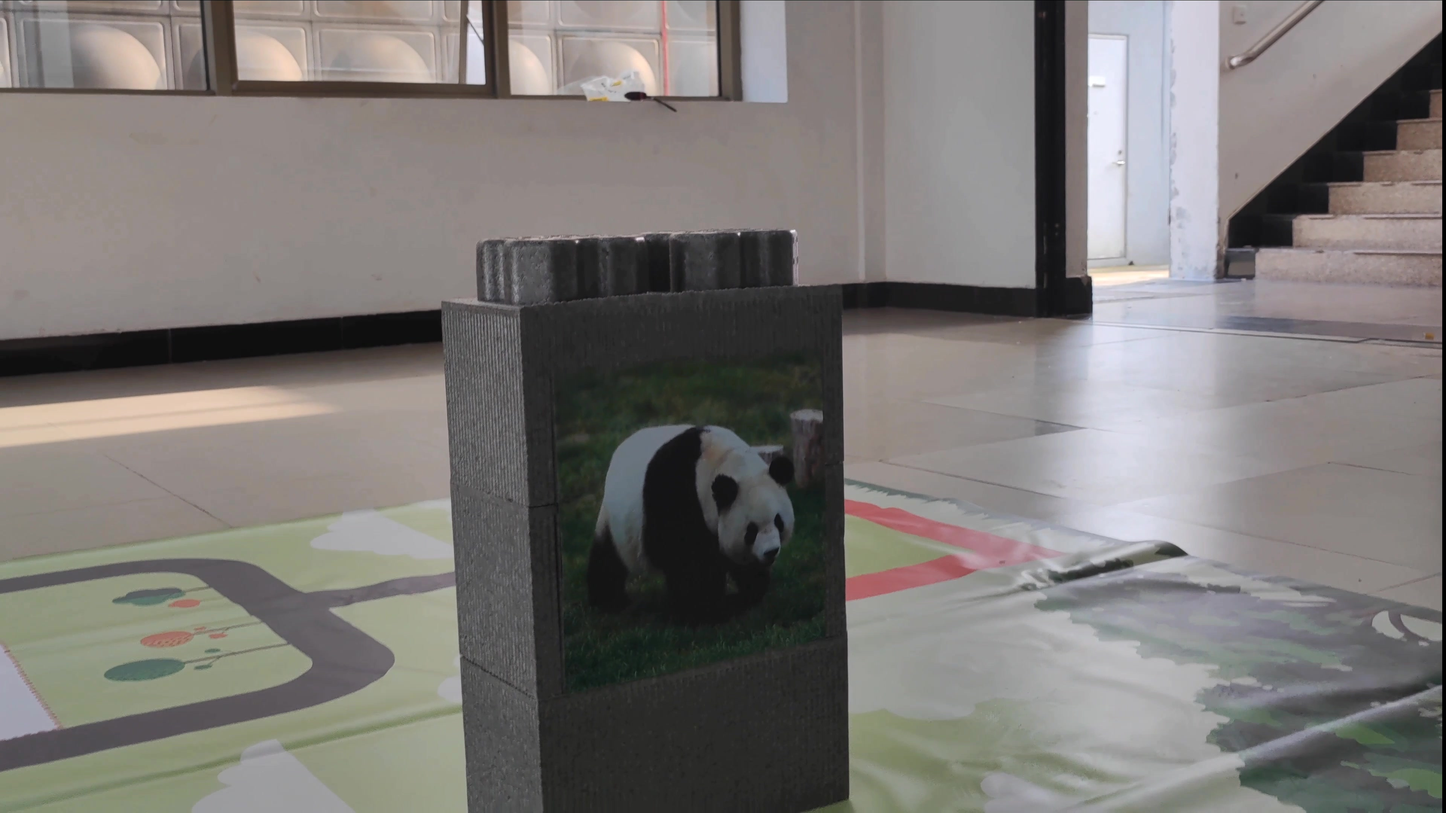panda: (587, 387, 810, 625)
